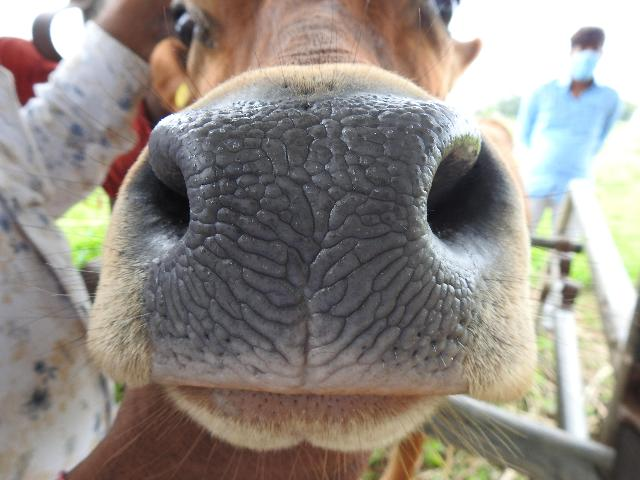Muzzle: (192, 112, 420, 372)
